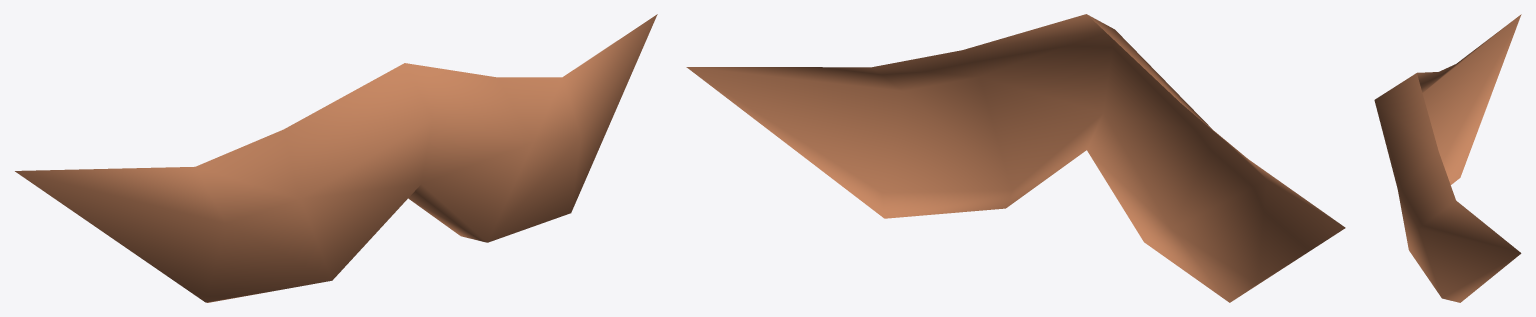
Rendered from Plumber.fbx.
3 renders of one model, left to right at view 1: azimuth 30°, elevation 25°; view 2: azimuth 150°, elevation 25°; view 3: azimuth 270°, elevation 25°, orthographic. The views are drawn at different scales.
Parts seen in each view (by area): view 1: 02 Beard - Cabron1; view 2: 02 Beard - Cabron1; view 3: 02 Beard - Cabron1.
Part boxes in pixels (x1,y1,x2,y2): 02 Beard - Cabron1: (15,14,657,302); 02 Beard - Cabron1: (686,14,1345,302); 02 Beard - Cabron1: (1374,14,1521,302).
Bounding box in the file's own units: 10.96 × 3.58 × 2.85.
